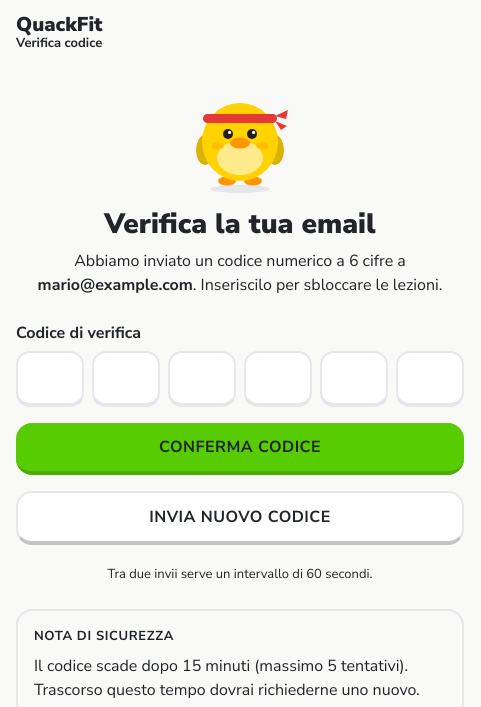
verifica email › TROPPI_TENTATIVI: messaggio sotto il codice e caselle svuotate
Expected: the heading "Verifica la tua email" is shown, x1=104 y1=205 x2=376 y2=243
Click the field named "Cifra 1 di 6".
click(50, 379)  # box x1=16 y1=351 x2=84 y2=407
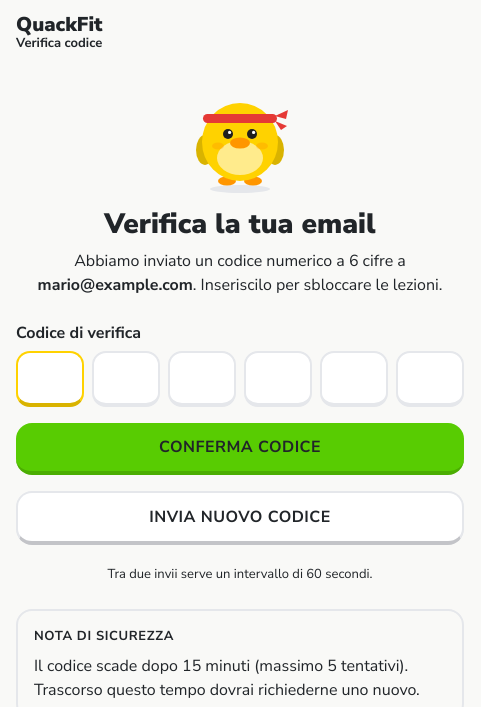
Type keys "000000"
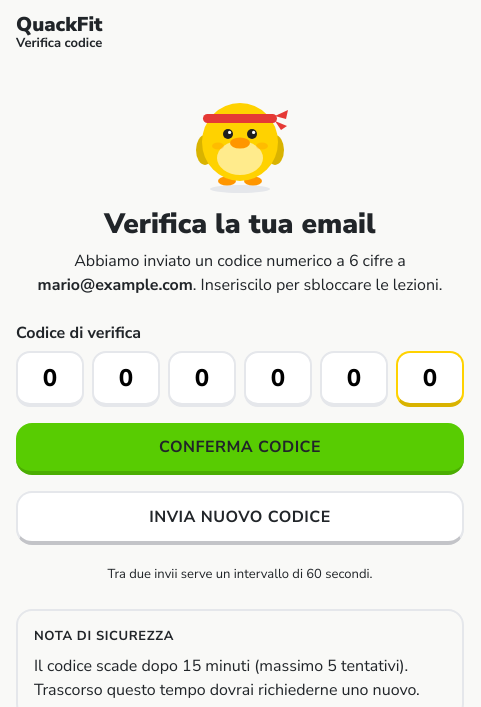
Click the button "Conferma codice".
click(240, 449)  # box x1=16 y1=423 x2=464 y2=475
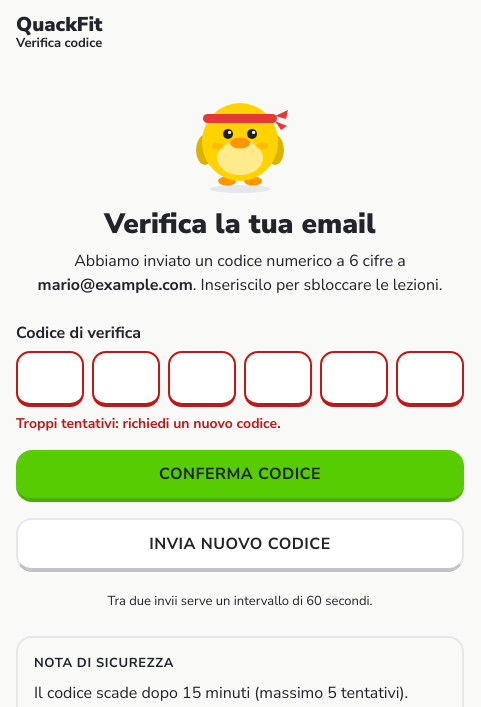
Now the text "Troppi tentativi: richiedi un nuovo codice." is shown, box x1=16 y1=414 x2=281 y2=433
Now the field named "Cifra 1 di 6" is empty, box x1=16 y1=351 x2=84 y2=407
